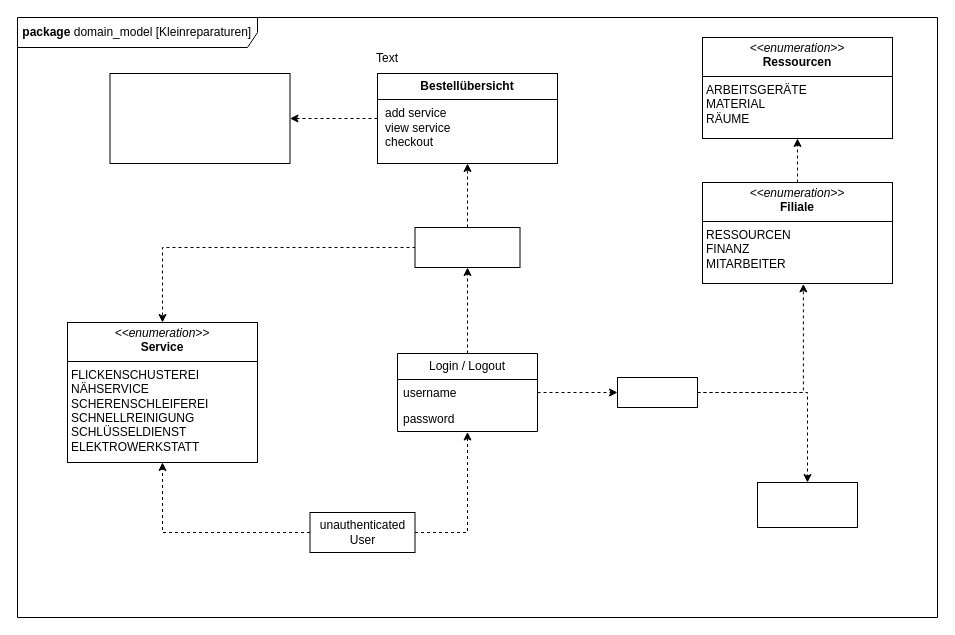
The diagram is 955 pixels wide and 635 high, and some of its shapes have lost their labels. The box of each missing label's shape, as (x1, y1, x2, y2) in pixels:
Lager neue artikel spende: (109, 72, 290, 164)
Managment: (616, 376, 698, 408)
Mitarbeiter: (414, 226, 520, 268)
Register a new worker: (756, 482, 858, 528)
